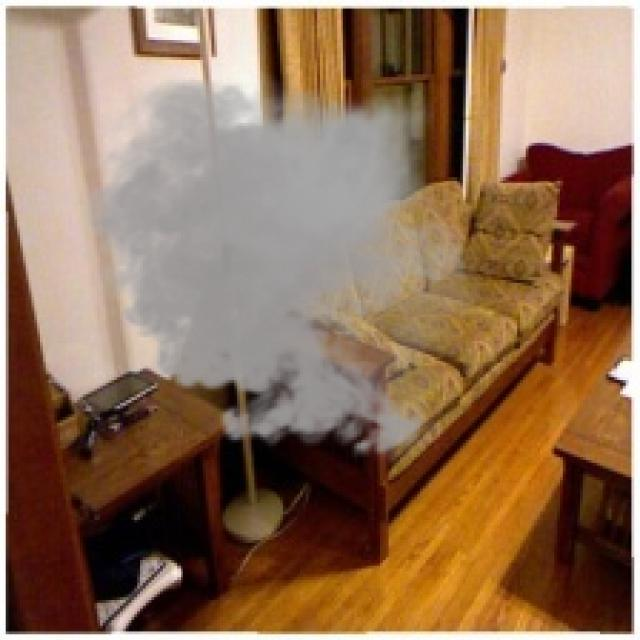Smoke: (66, 62, 492, 468)
